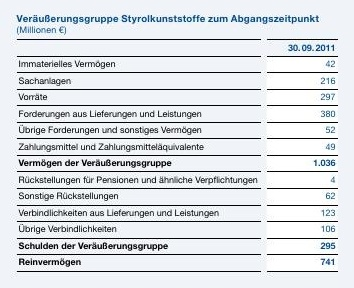table: (0, 0, 354, 288)
